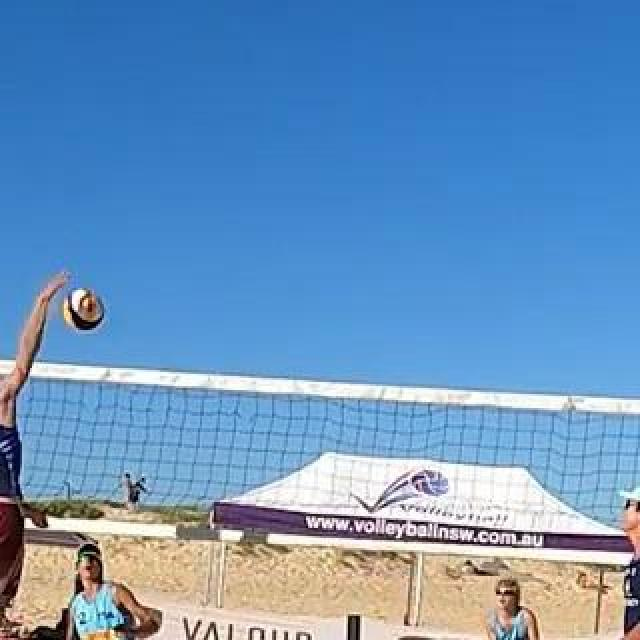volleyball: (65, 290, 105, 332)
